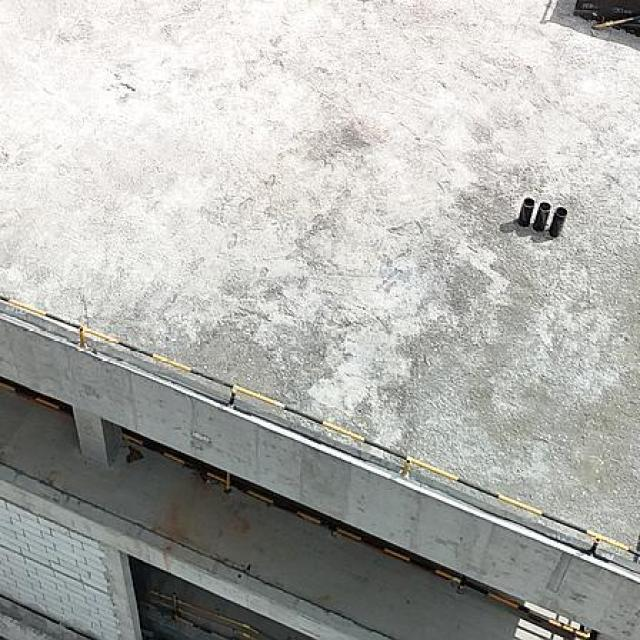edge_guardrail: (0, 292, 640, 562), (120, 433, 590, 638), (137, 588, 267, 640), (0, 381, 73, 416), (591, 14, 640, 30)
